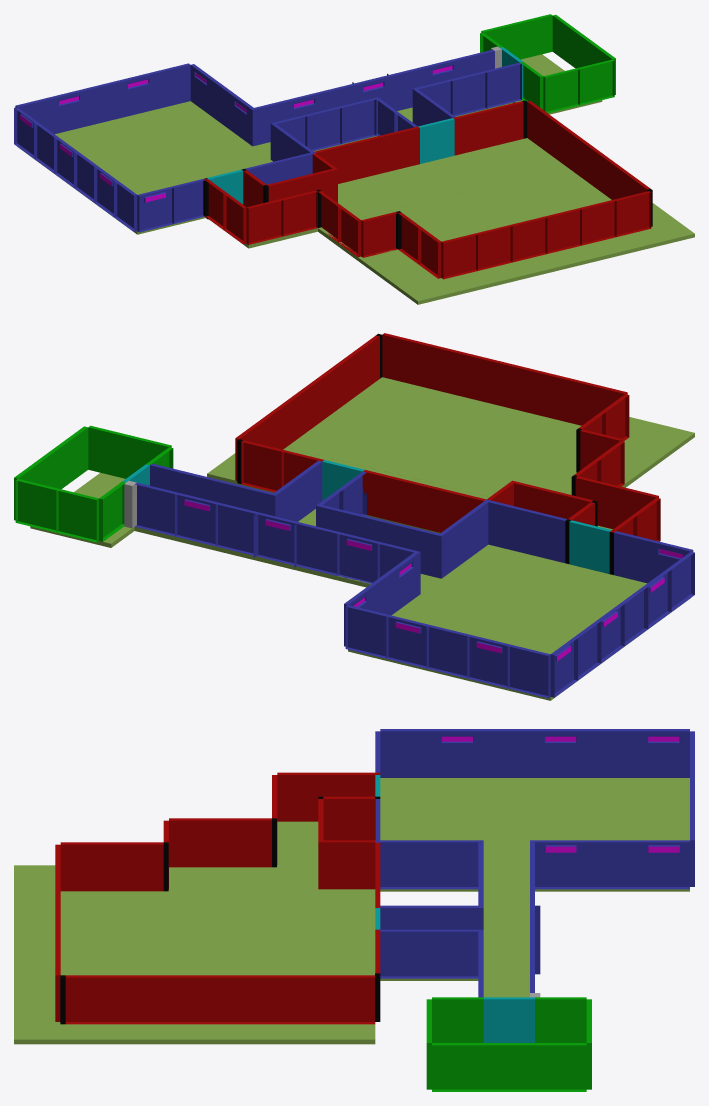
The model's file is EXP_Map_DEF.fbx.
The picture shows the model from 3 angles, top to bottom: view 1: azimuth 30°, elevation 25°; view 2: azimuth 150°, elevation 25°; view 3: azimuth 270°, elevation 25°; orthographic projection. The views are drawn at different scales.
Visible parts, largest first — view 1: Mappa, Porta_Corridoio, Porta_Stanza; view 2: Mappa, Porta_Stanza, Porta_Corridoio; view 3: Mappa, Porta_Spawn.
Part boxes in pixels (x1,y1,x2,y2): Mappa: (14,14,694,304); Porta_Corridoio: (418,118,454,163); Porta_Stanza: (207,169,243,204); Mappa: (14,333,694,700); Porta_Stanza: (569,520,611,573); Porta_Corridoio: (322,460,364,500); Mappa: (14,729,694,1091); Porta_Spawn: (483,997,534,1042).
Size of the model in its own units: 7250 by 551 by 6601.
